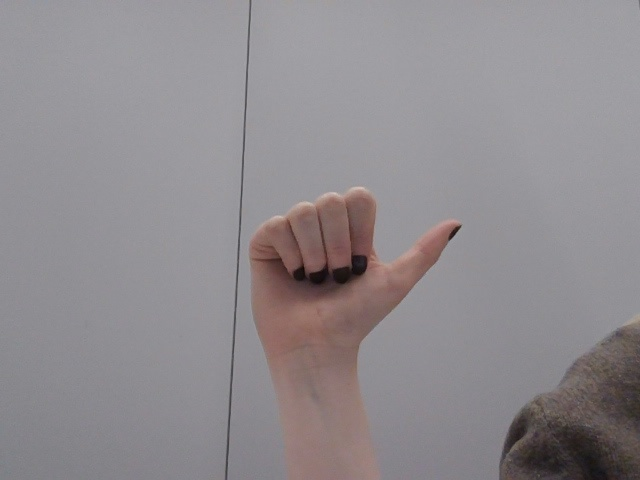left: (234, 180, 483, 368)
